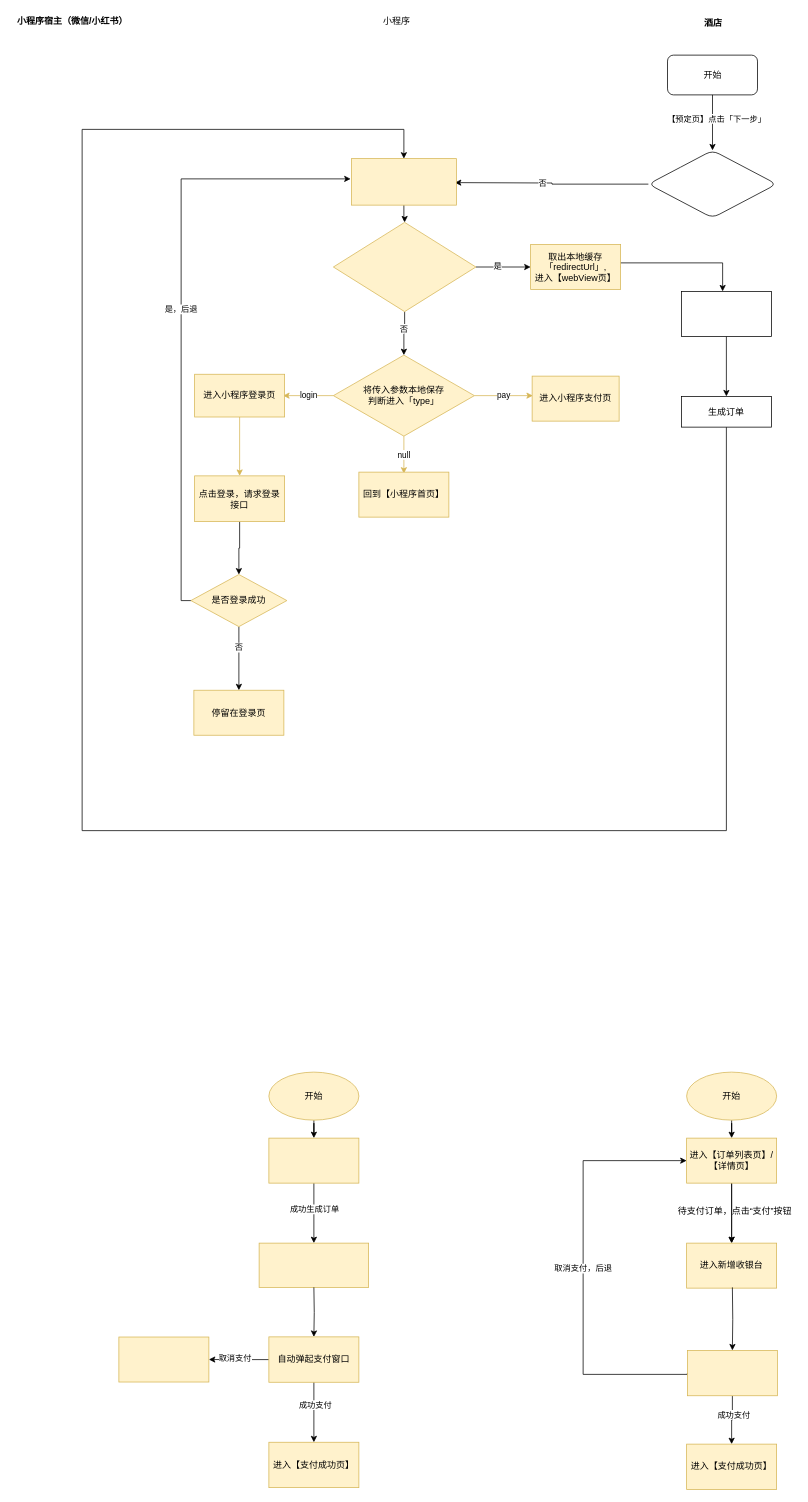
Some shapes in this 808 by 1502 pixel diagram are drawn without their labels. Here are the shapes that lost their labels. From the top down, the box of each, then its label:
(351, 158, 456, 205): 进入【中间处理页】
(648, 150, 777, 218): 是否登录
(333, 222, 476, 312): 判断是否后退进入页面
(681, 291, 771, 336): 进入【酒店结算页】
(268, 1137, 359, 1183): 进入【结算页】
(258, 1242, 369, 1287): 进入新增【收银台】
(118, 1336, 209, 1382): 进入【订单详情页】
(687, 1350, 777, 1396): 弹起支付窗口
